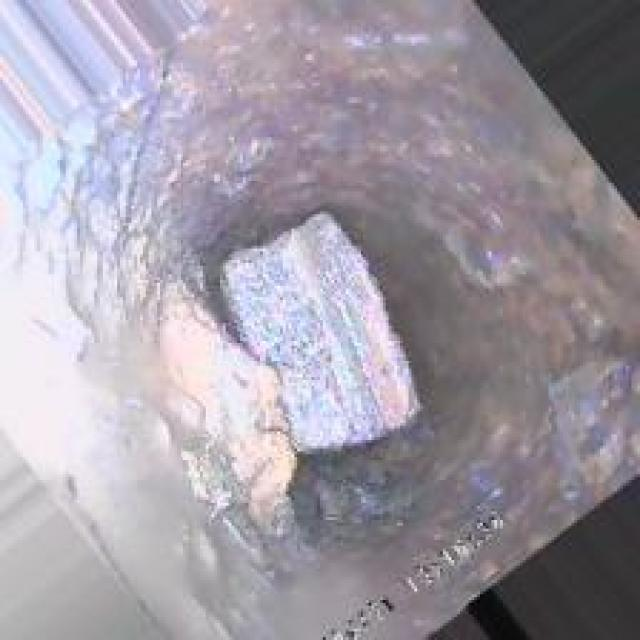stone: (214, 217, 443, 477)
